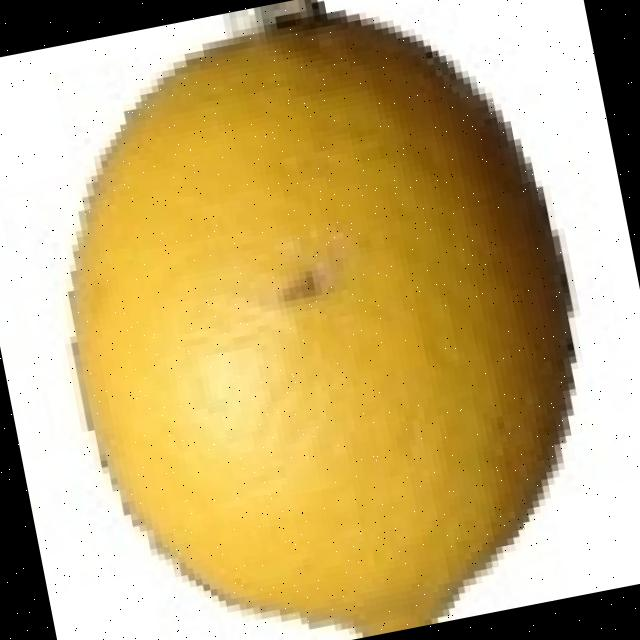lemon: (72, 8, 573, 638)
